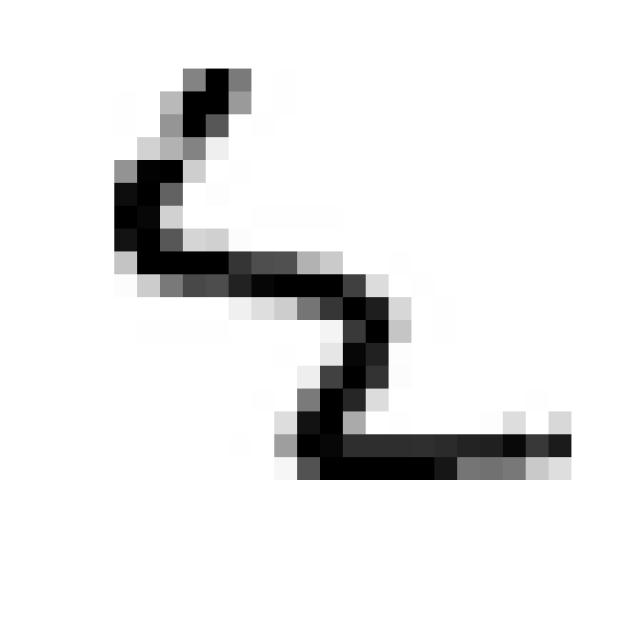4 -four-: (98, 41, 592, 502)
